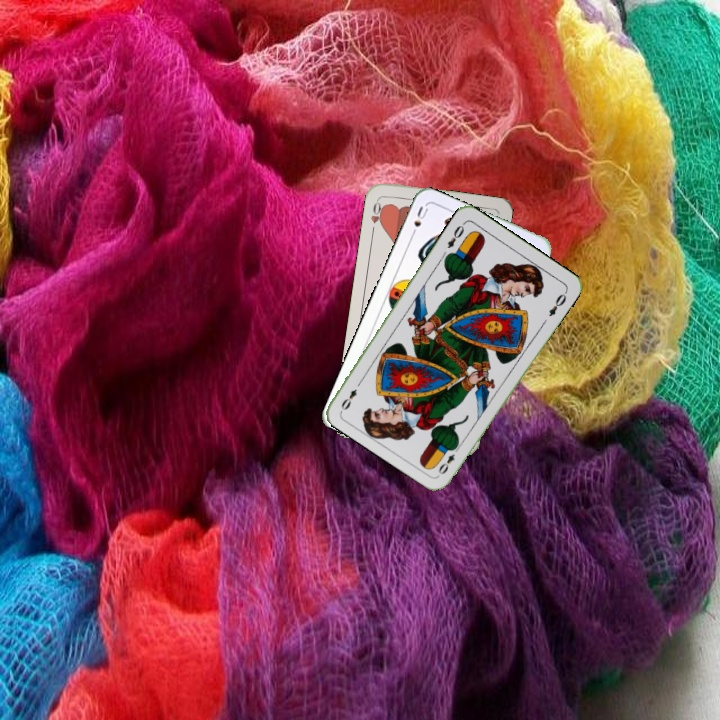EO: (434, 442, 462, 477), (443, 218, 467, 251)
HO: (366, 195, 387, 235)
SU: (407, 202, 431, 240)
